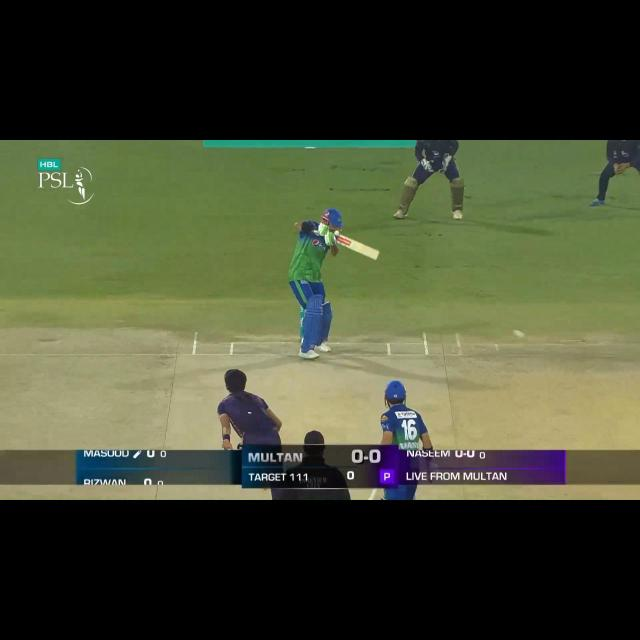bat: (328, 234, 384, 264)
toe: (371, 250, 381, 261)
